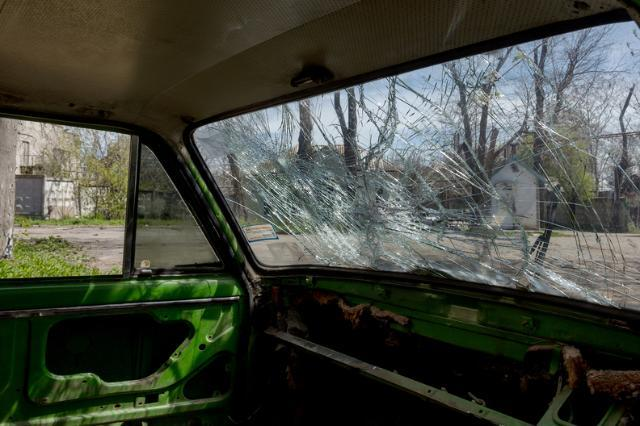Windshield: (203, 56, 640, 294)
